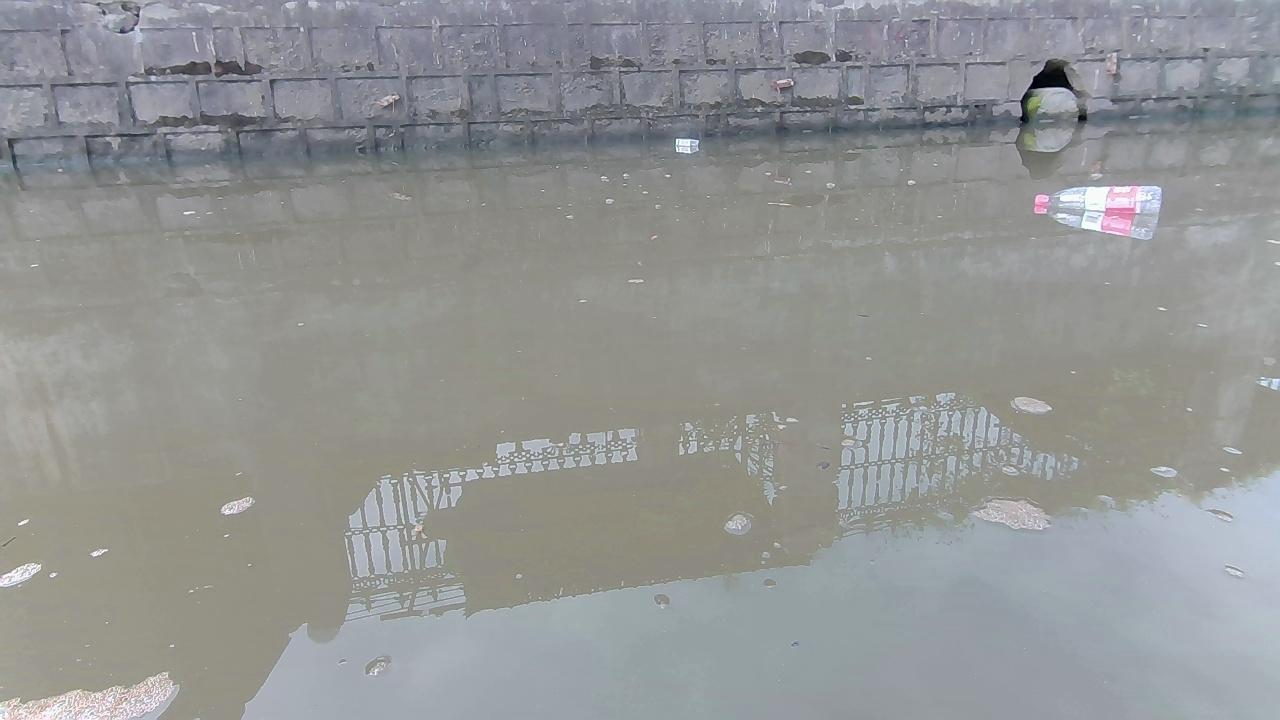Plastic: (1033, 184, 1164, 214), (673, 137, 700, 148)
